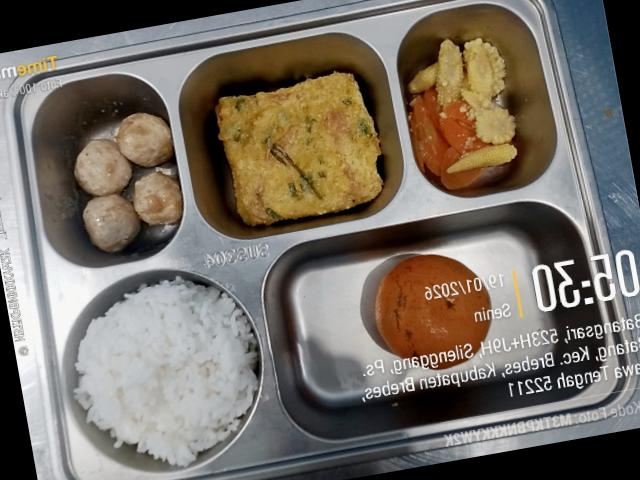bakso: (74, 139, 132, 196)
buah: (374, 254, 490, 368)
nasi: (73, 276, 257, 466)
sayur: (475, 106, 515, 144)
tempe: (215, 71, 383, 225)
